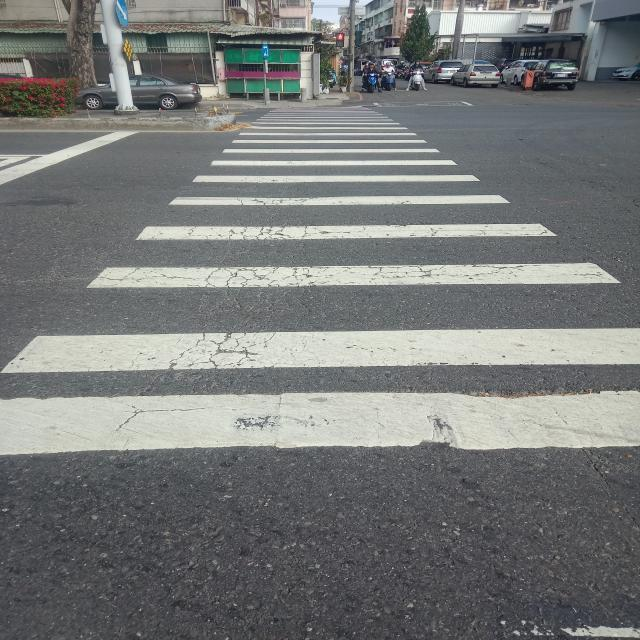zebra crossing: (0, 120, 636, 454)
